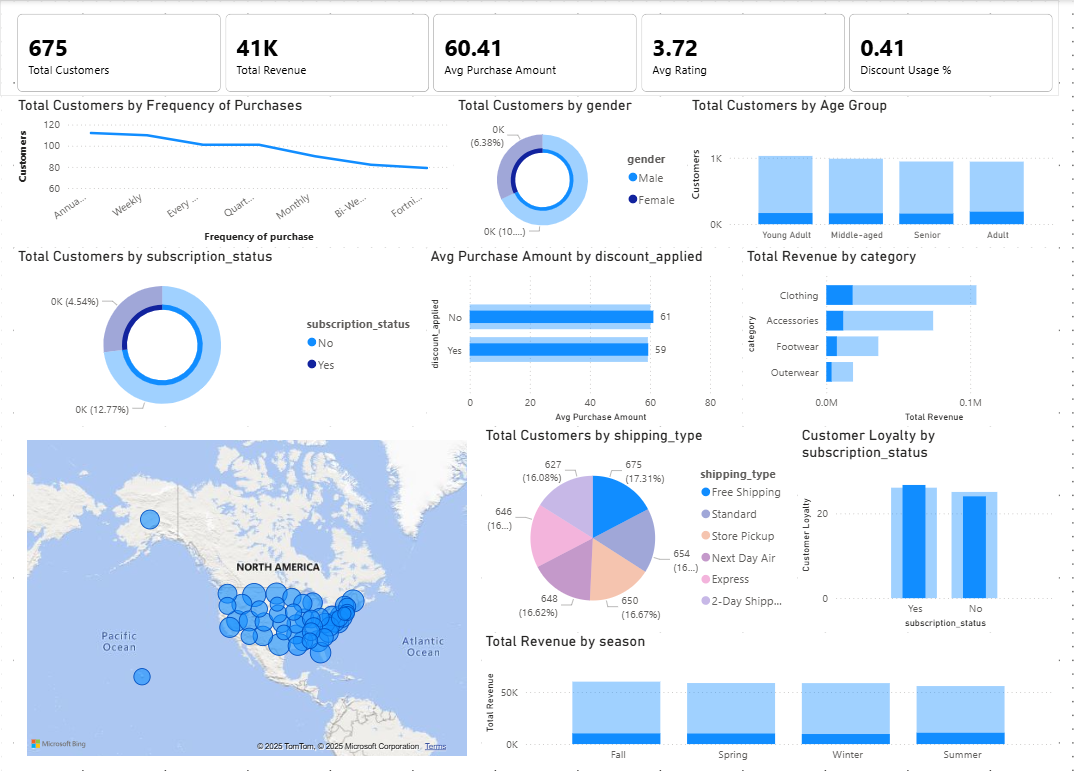

The page's visual inventory and layout, read from the dashboard file:
{"tool":"powerbi","page":{"name":"Page 2","canvas":[1250,900],"ordinal":0},"visuals":[{"type":"cardVisual","fields":{"Data":["customer_behavior customer.Total Customers","customer_behavior customer.Total Revenue","customer_behavior customer.Avg Purchase Amount","customer_behavior customer.Avg Rating","customer_behavior customer.Discount Usage %"]},"box":[0,0,1232,112],"z":0},{"type":"lineChart","title":"Total Customers by Frequency of Purchases","fields":{"Category":["customer_behavior customer.frequency_of_purchases"],"Y":["customer_behavior customer.Total Customers"]},"box":[16,112,512,176],"z":0,"group":"g1"},{"type":"group","id":"g1","title":"Group 1","box":[16,112,1216,176],"z":1000},{"type":"clusteredColumnChart","title":"Total Customers by Age Group","fields":{"Category":["customer_behavior customer.age_group"],"Y":["customer_behavior customer.Total Customers"]},"box":[800,112,432,176],"z":1000,"group":"g1"},{"type":"donutChart","fields":{"Category":["customer_behavior customer.gender"],"Y":["customer_behavior customer.Total Customers"]},"box":[528,112,272,176],"z":2000,"group":"g1"},{"type":"group","id":"g2","title":"Group 3","box":[16,496,1216,400],"z":2000},{"type":"group","id":"g3","title":"Group 2","box":[16,288,1216,208],"z":3000},{"type":"donutChart","fields":{"Category":["customer_behavior customer.subscription_status"],"Y":["customer_behavior customer.Total Customers"]},"box":[16,288,480,208],"z":3000,"group":"g3"},{"type":"barChart","fields":{"Category":["customer_behavior customer.category"],"Y":["customer_behavior customer.Total Revenue"]},"box":[864,288,368,208],"z":4000,"group":"g3"},{"type":"barChart","fields":{"Category":["customer_behavior customer.discount_applied"],"Y":["customer_behavior customer.Avg Purchase Amount"]},"box":[496,288,368,208],"z":6000,"group":"g3"},{"type":"map","fields":{"Category":["customer_behavior customer.location"],"Size":["customer_behavior customer.Total Customers"]},"box":[16,496,544,400],"z":7000,"group":"g2"},{"type":"columnChart","fields":{"Category":["customer_behavior customer.subscription_status"],"Y":["customer_behavior customer.Customer Loyalty"]},"box":[928,496,304,240],"z":8000,"group":"g2"},{"type":"pieChart","fields":{"Category":["customer_behavior customer.shipping_type"],"Y":["customer_behavior customer.Total Customers"]},"box":[560,496,368,240],"z":10000,"group":"g2"},{"type":"columnChart","fields":{"Category":["customer_behavior customer.season"],"Y":["customer_behavior customer.Total Revenue"]},"box":[560,736,672,160],"z":11000,"group":"g2"}]}

Visuals, with their boxes in screenshot pixels (x1, y1, x2, y2), scaled from the page's 1250x900 canvas onto the 1074x771 screenshot:
cardVisual - customer_behavior customer.Total Customers x customer_behavior customer.Total Revenue: (left=0, top=0, right=1059, bottom=96)
"Total Customers by Frequency of Purchases" lineChart: (left=14, top=96, right=454, bottom=247)
"Group 1" group: (left=14, top=96, right=1059, bottom=247)
"Total Customers by Age Group" clusteredColumnChart: (left=687, top=96, right=1059, bottom=247)
donutChart - customer_behavior customer.gender x customer_behavior customer.Total Customers: (left=454, top=96, right=687, bottom=247)
"Group 3" group: (left=14, top=425, right=1059, bottom=768)
"Group 2" group: (left=14, top=247, right=1059, bottom=425)
donutChart - customer_behavior customer.subscription_status x customer_behavior customer.Total Customers: (left=14, top=247, right=426, bottom=425)
barChart - customer_behavior customer.category x customer_behavior customer.Total Revenue: (left=742, top=247, right=1059, bottom=425)
barChart - customer_behavior customer.discount_applied x customer_behavior customer.Avg Purchase Amount: (left=426, top=247, right=742, bottom=425)
map - customer_behavior customer.location x customer_behavior customer.Total Customers: (left=14, top=425, right=481, bottom=768)
columnChart - customer_behavior customer.subscription_status x customer_behavior customer.Customer Loyalty: (left=797, top=425, right=1059, bottom=631)
pieChart - customer_behavior customer.shipping_type x customer_behavior customer.Total Customers: (left=481, top=425, right=797, bottom=631)
columnChart - customer_behavior customer.season x customer_behavior customer.Total Revenue: (left=481, top=631, right=1059, bottom=768)
